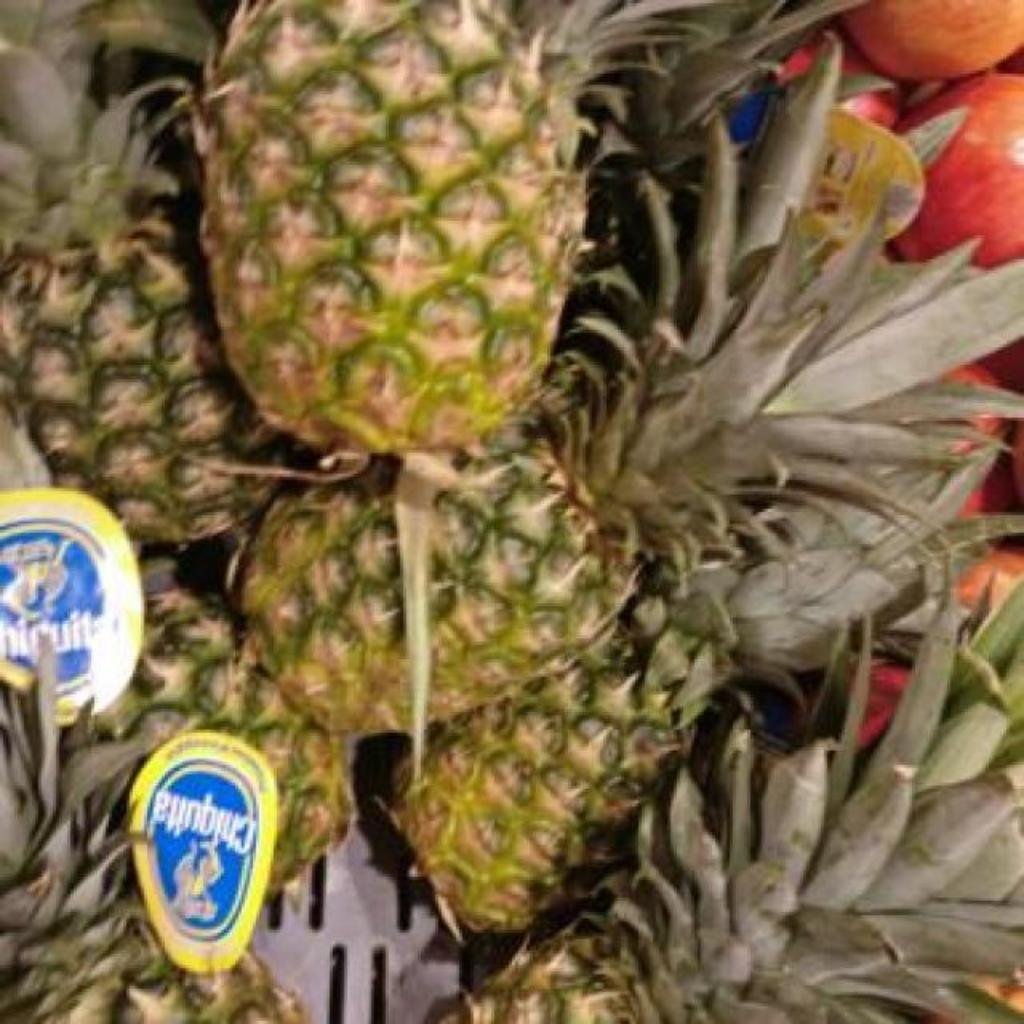pineapple: (242, 48, 1024, 731), (202, 0, 582, 771), (0, 34, 246, 542), (406, 628, 716, 929), (98, 584, 344, 879), (376, 219, 422, 223)
